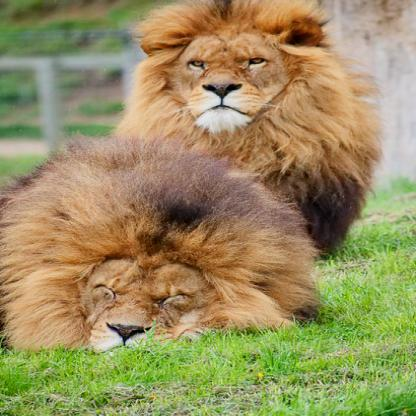cat: (0, 134, 319, 354), (126, 0, 374, 257)
